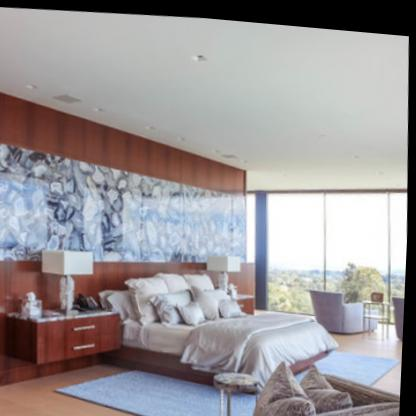Bed: (133, 261, 337, 390)
Wall Panel: (0, 93, 250, 301)
